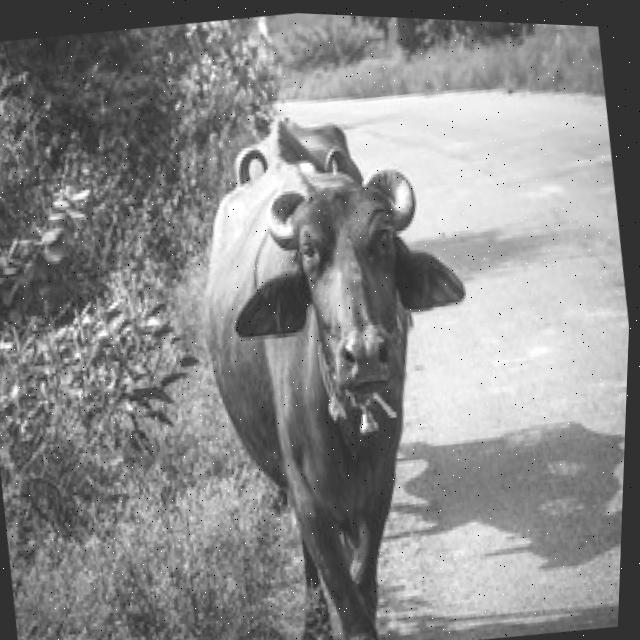Buffalo: (159, 85, 520, 640)
